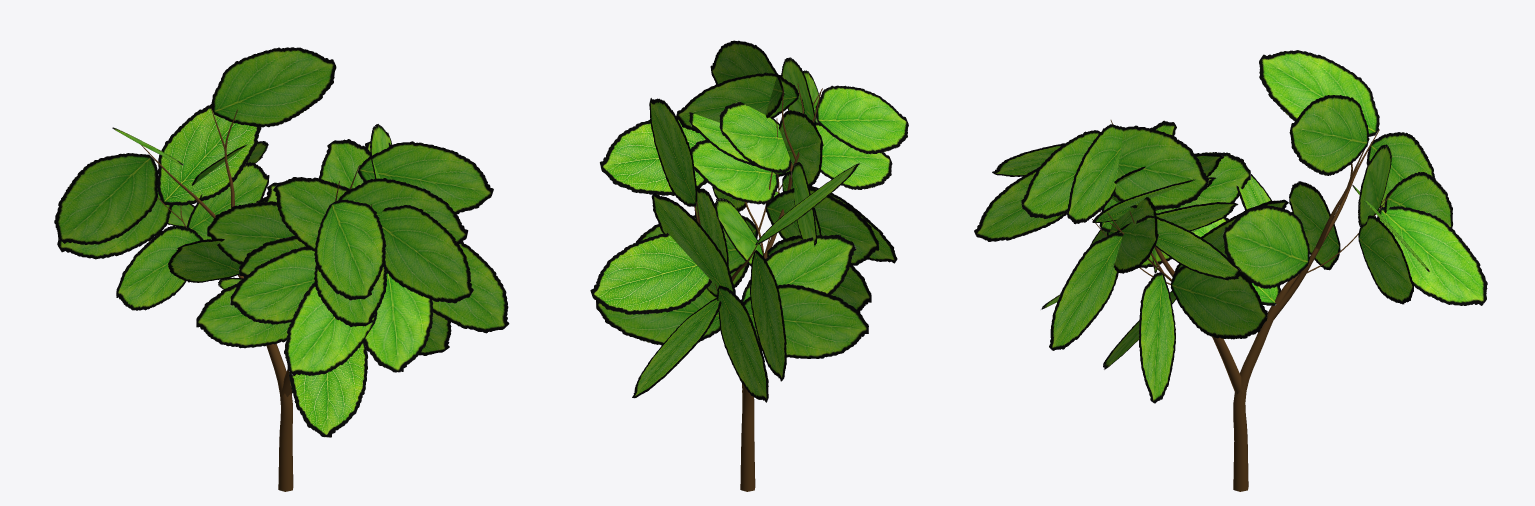
The model's file is Stage 1 Asset.fbx.
3 renders of one model, left to right at view 1: azimuth 30°, elevation 25°; view 2: azimuth 150°, elevation 25°; view 3: azimuth 270°, elevation 25°, orthographic. The views are drawn at different scales.
Visible parts, largest first — view 1: Plane.179, tree.028; view 2: Plane.179, tree.028; view 3: Plane.179, tree.028.
Boxes of the visible parts, x1,y1,x2,y2 form: Plane.179: (54, 47, 509, 437); tree.028: (141, 108, 372, 491); Plane.179: (590, 40, 908, 402); tree.028: (694, 83, 822, 491); Plane.179: (974, 50, 1487, 403); tree.028: (1088, 120, 1392, 491).
Bounding box in the file's own units: 159 × 199 × 227.
